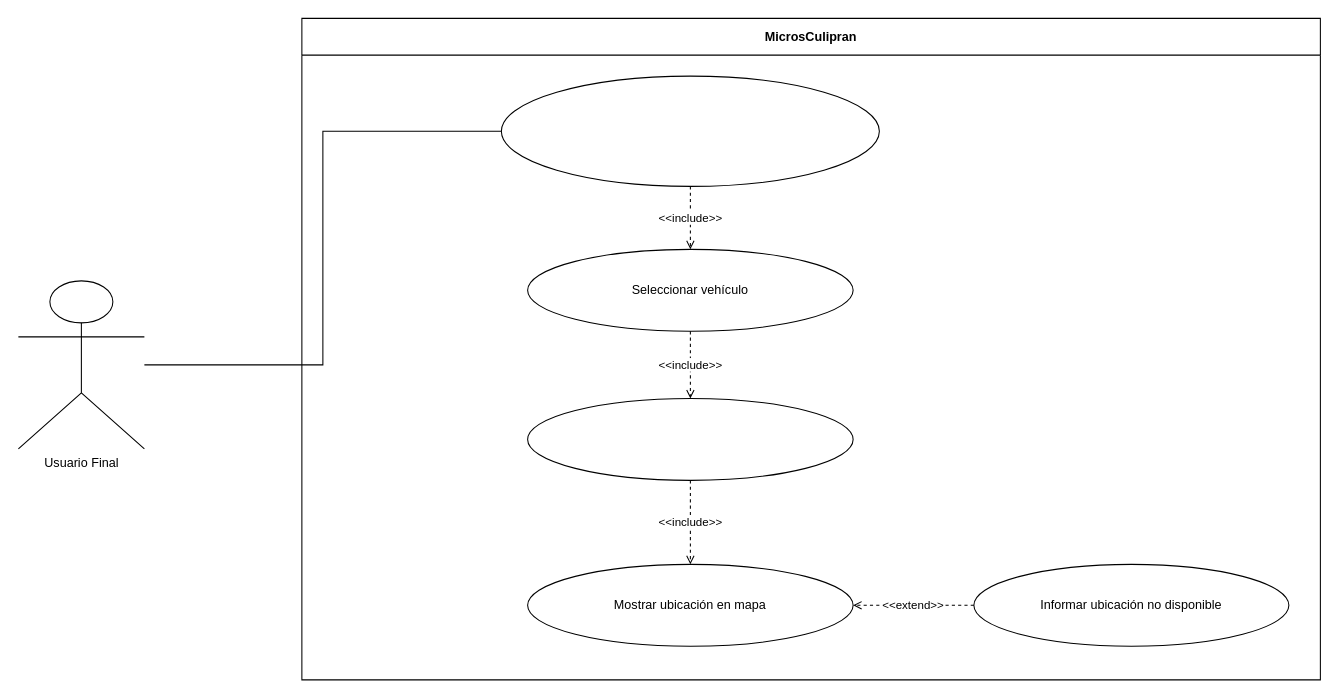
The diagram is 1339 pixels wide and 698 high, and some of its shapes have lost their labels. The box of each missing label's shape, as (x1, y1, x2, y2) in pixels:
CU-02 Consultar ubicación: (500, 75, 879, 186)
Obtener última ubicación: (527, 397, 853, 480)
